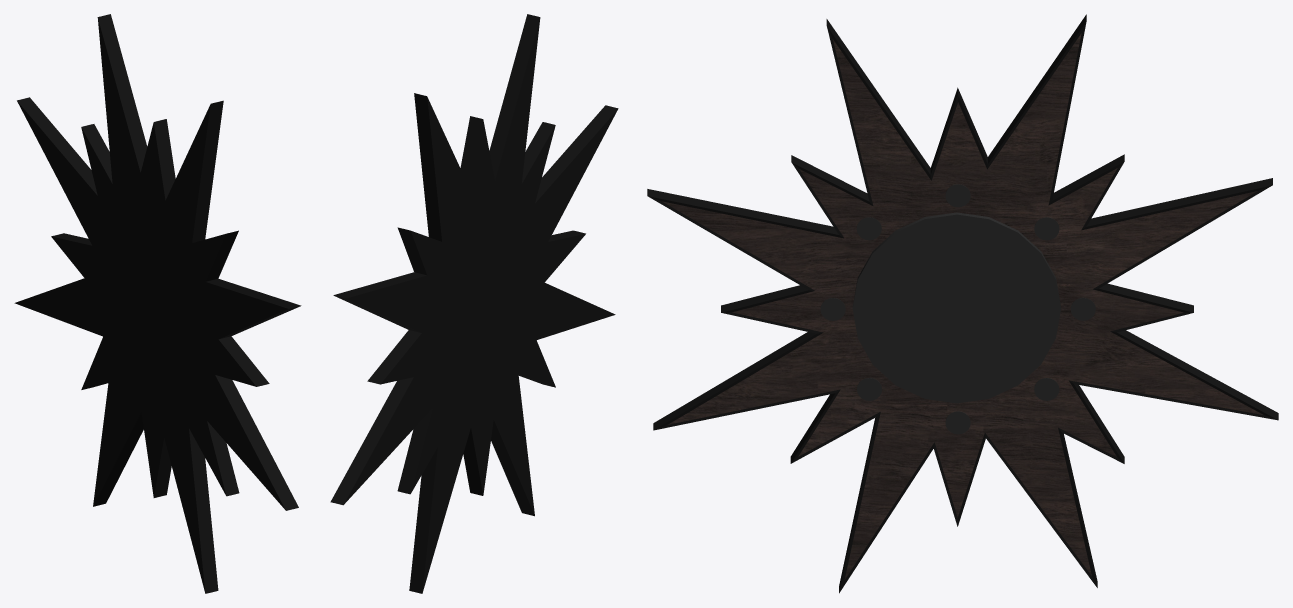
Rendered from Mirror.FBX.
The picture shows the model from 3 angles, left to right: view 1: azimuth 30°, elevation 25°; view 2: azimuth 150°, elevation 25°; view 3: azimuth 270°, elevation 25°; orthographic projection. The views are drawn at different scales.
Visible parts, largest first — view 1: mirror; view 2: mirror; view 3: mirror.
Boxes of the visible parts, x1,y1,x2,y2 form: mirror: (14,14,301,593); mirror: (330,14,618,593); mirror: (647,14,1278,593).
Size of the model in its own units: 25.3 by 729 by 730.
Materials: 2 (1 with a texture image).
